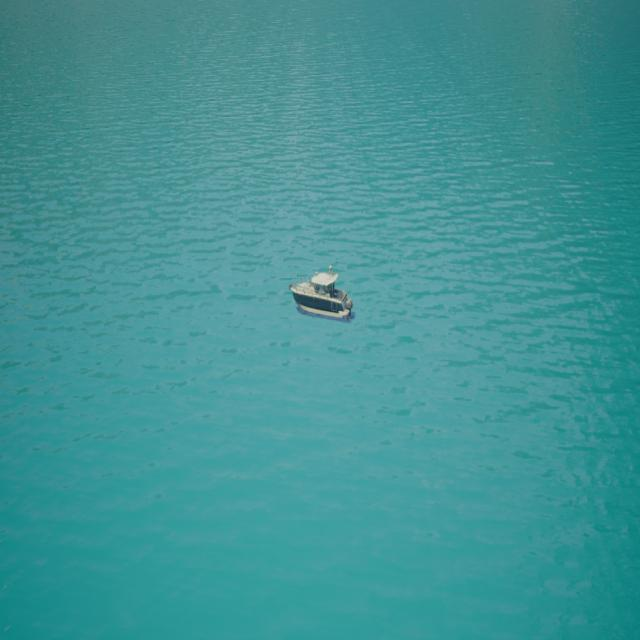ship: (288, 268, 354, 320)
